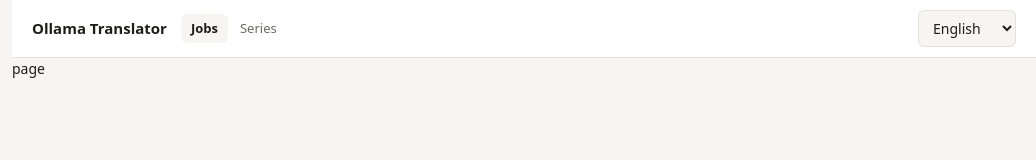
it: The interface-language menu › translates the header at once and remembers the choice
Select "简体中文" in the dropdown named "Interface language" at (967, 28), box left=918, top=10, right=1016, bottom=47
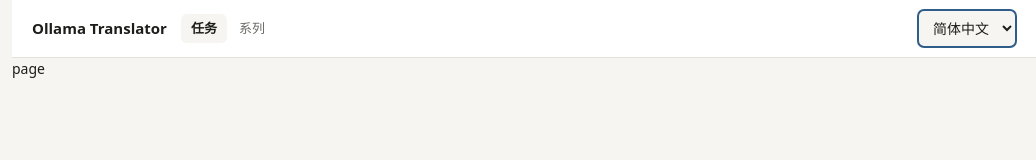
Now the link "Jobs" no longer shows "Jobs"
